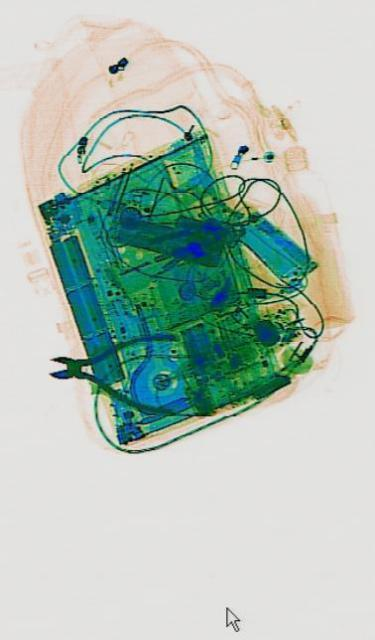Pliers: (47, 324, 177, 414)
